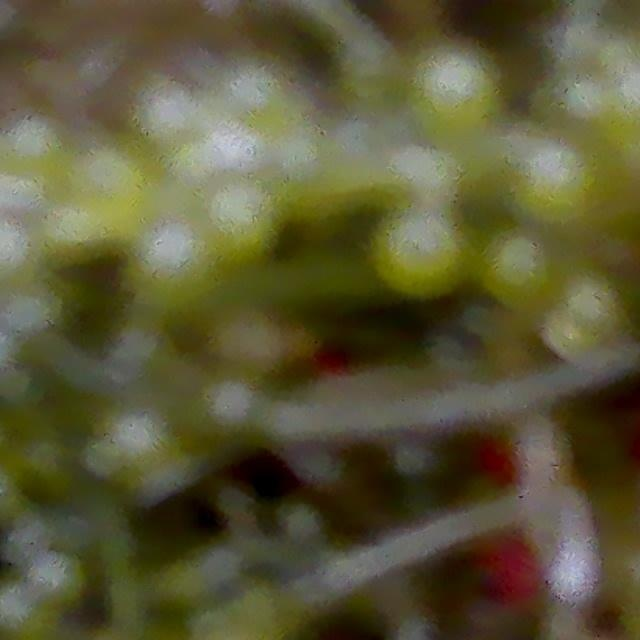SeaGrape: (500, 128, 612, 236), (365, 198, 477, 304), (410, 44, 503, 135), (475, 230, 562, 314)
